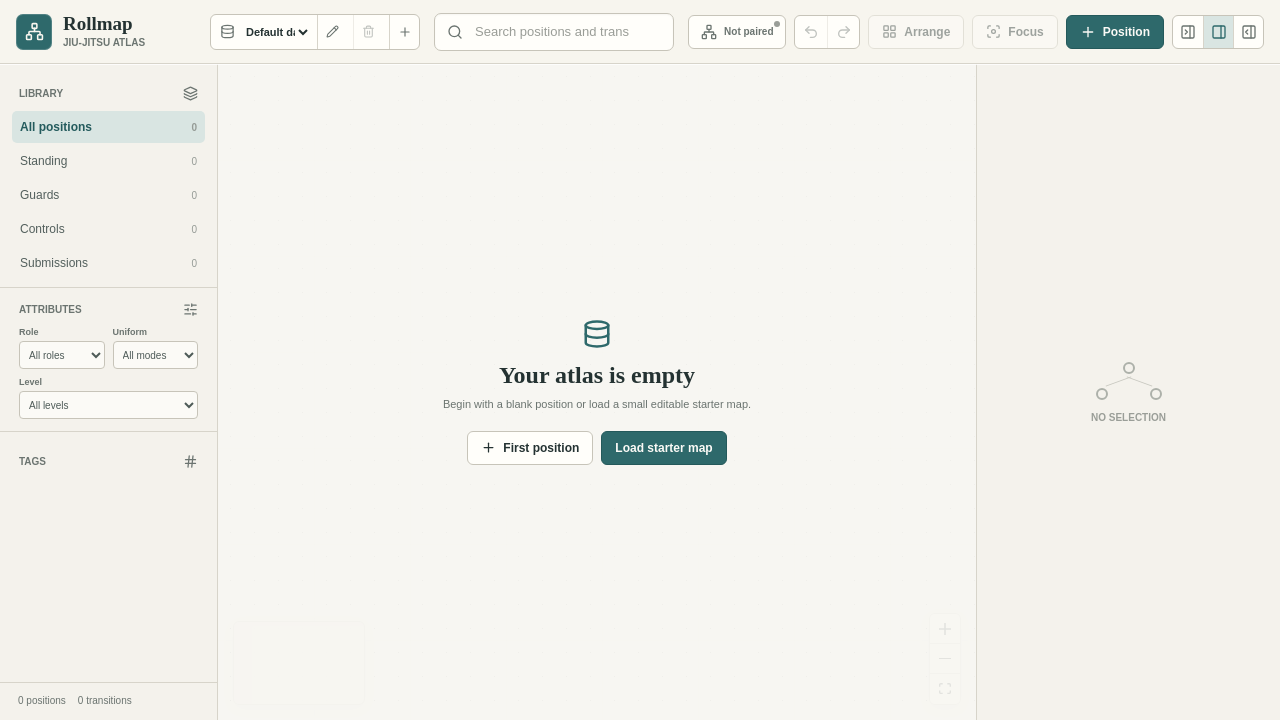
it: application shell › creates and activates a new empty knowledge database
Click the button named "New database".
click(404, 32)  # box [389,14,419,48]
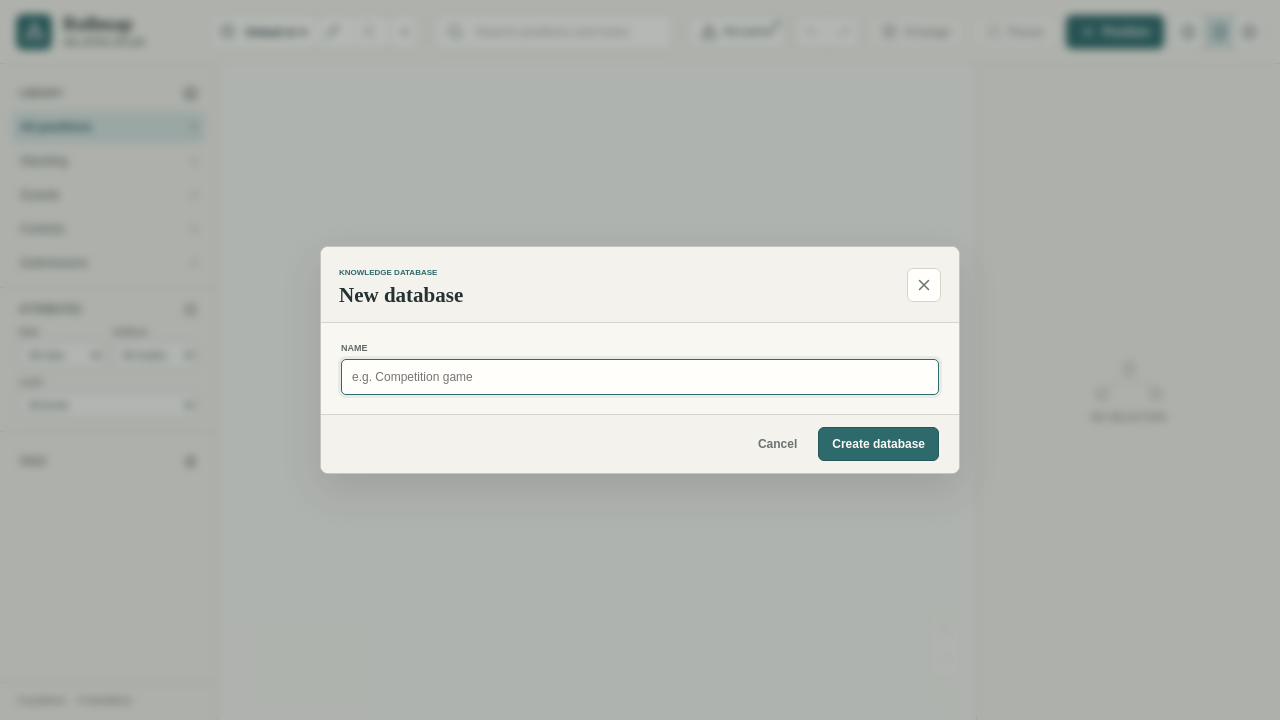
Type "Competition game" into the field labelled "Name".
click(640, 377); type("Competition game")  # box [341,359,939,395]
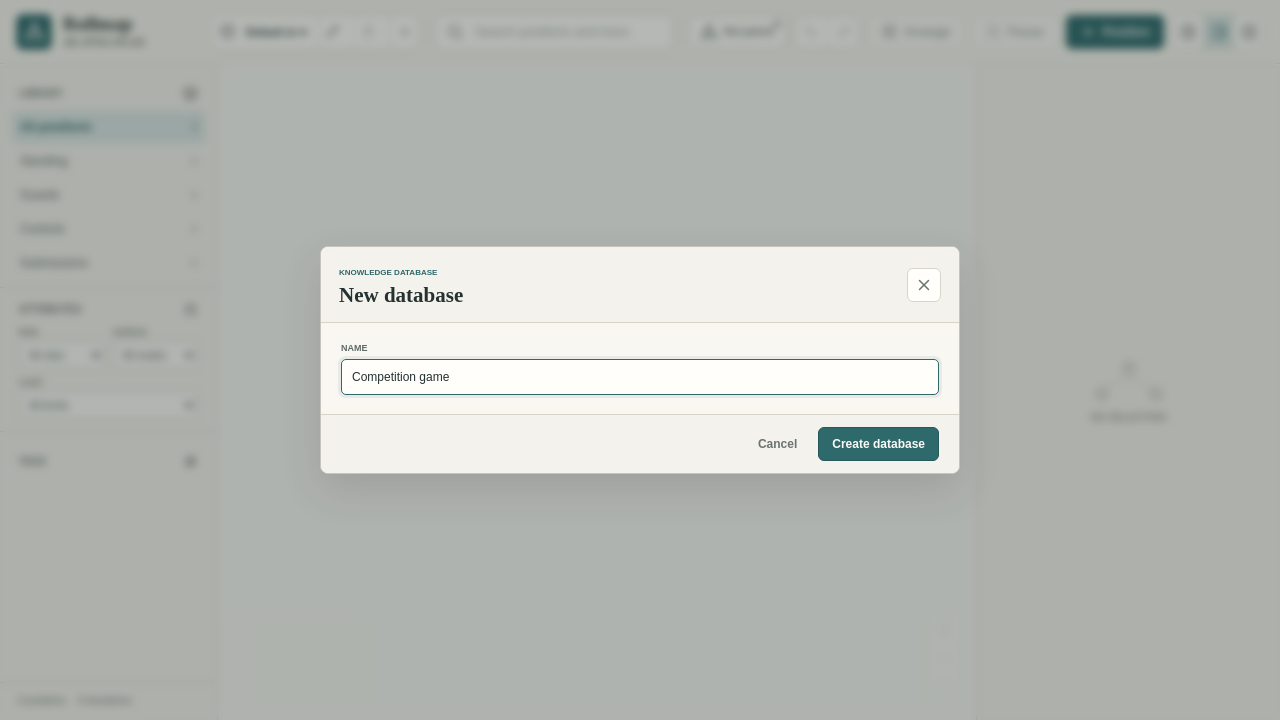
Click the button "Create database".
click(879, 444)  # box [818,427,939,461]
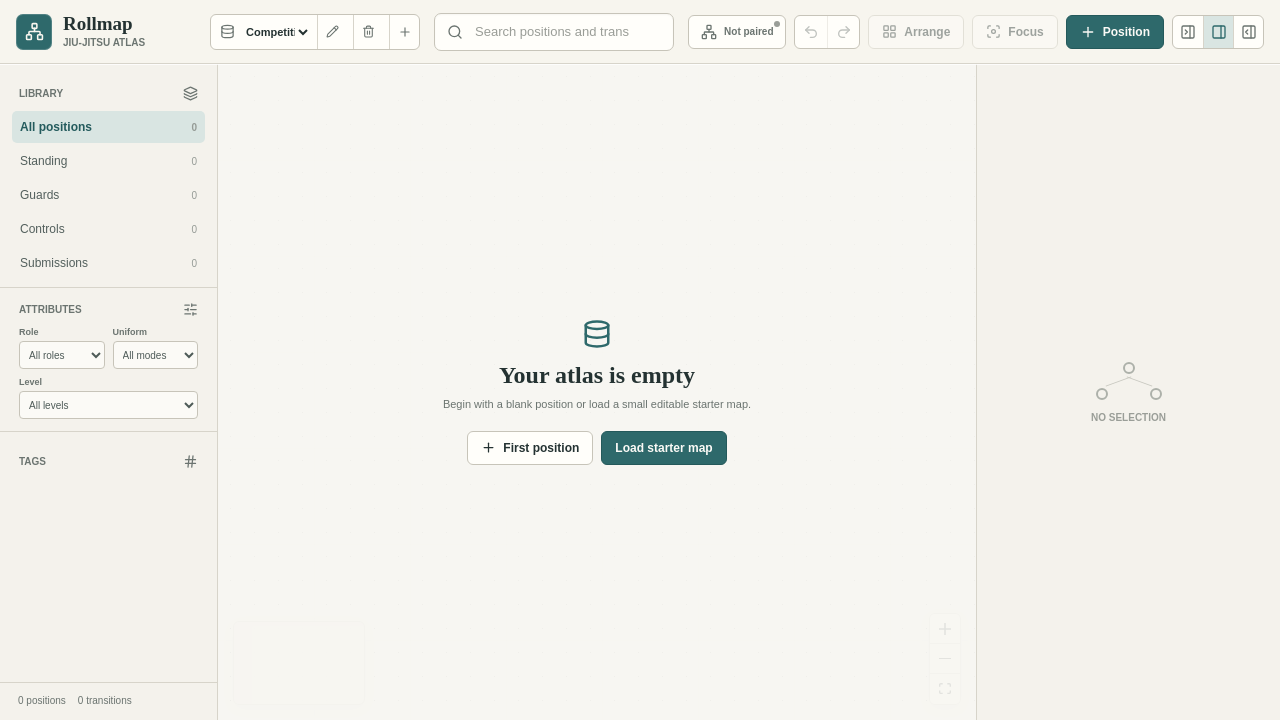
Check: the dropdown named "Knowledge database" shows "Competition game", box [242,14,311,48]
